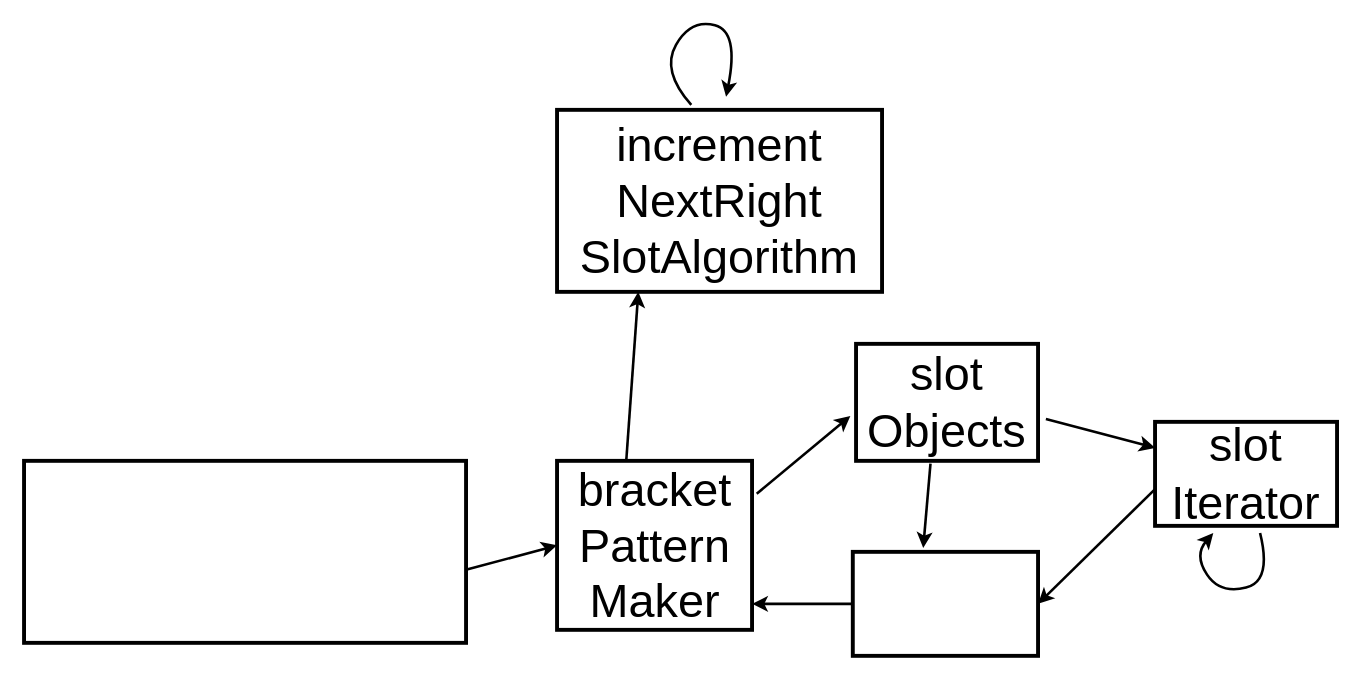
Image size: 1361x681. Some labels were removed from this diagram. The centre of each missing label's shape, as x and y in pixels:
"Input (insert n number of bracket)" goes at (244,551).
"to Bracket" goes at (944,603).
